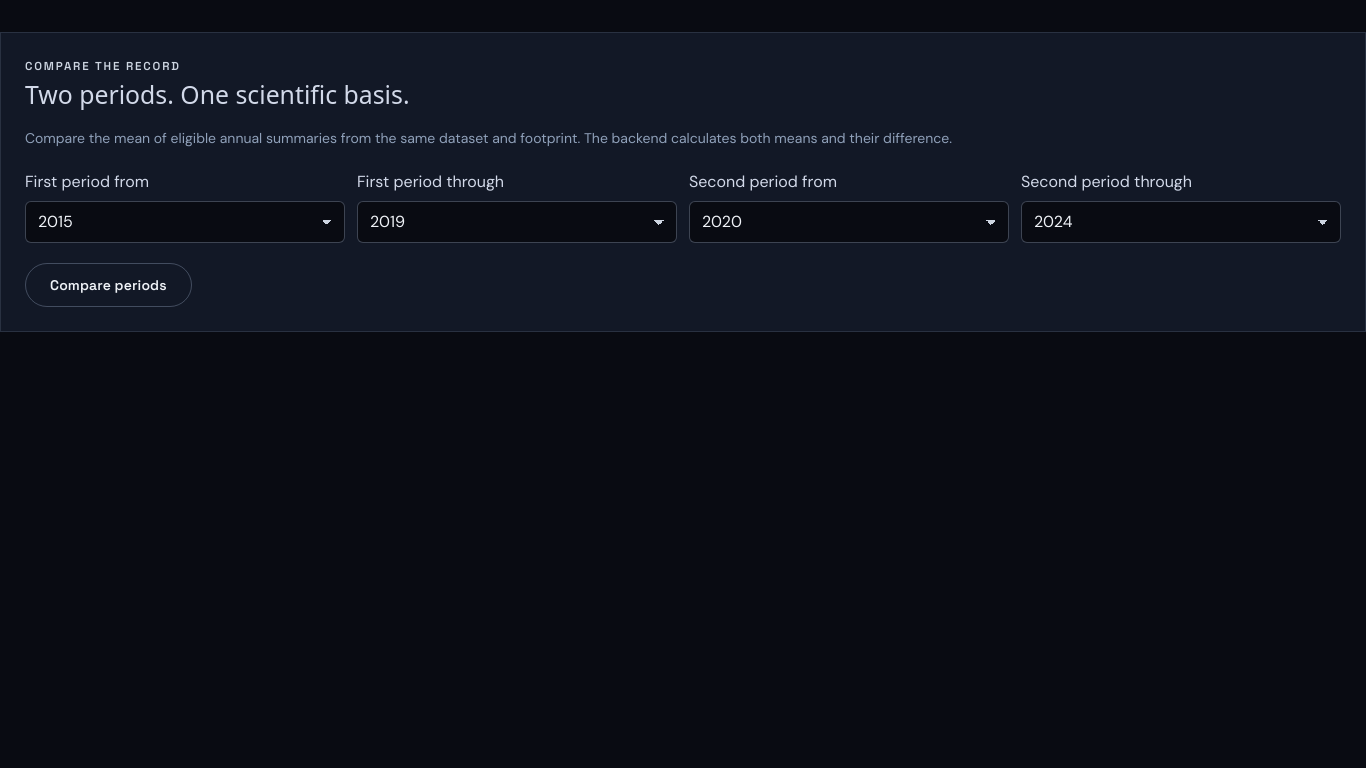
Test case: Backend-driven feature contracts › requests backend period means with submitted location, dates and evidence identity
Click the button "Compare periods". click: point(108, 285)
box: [25,263,192,307]
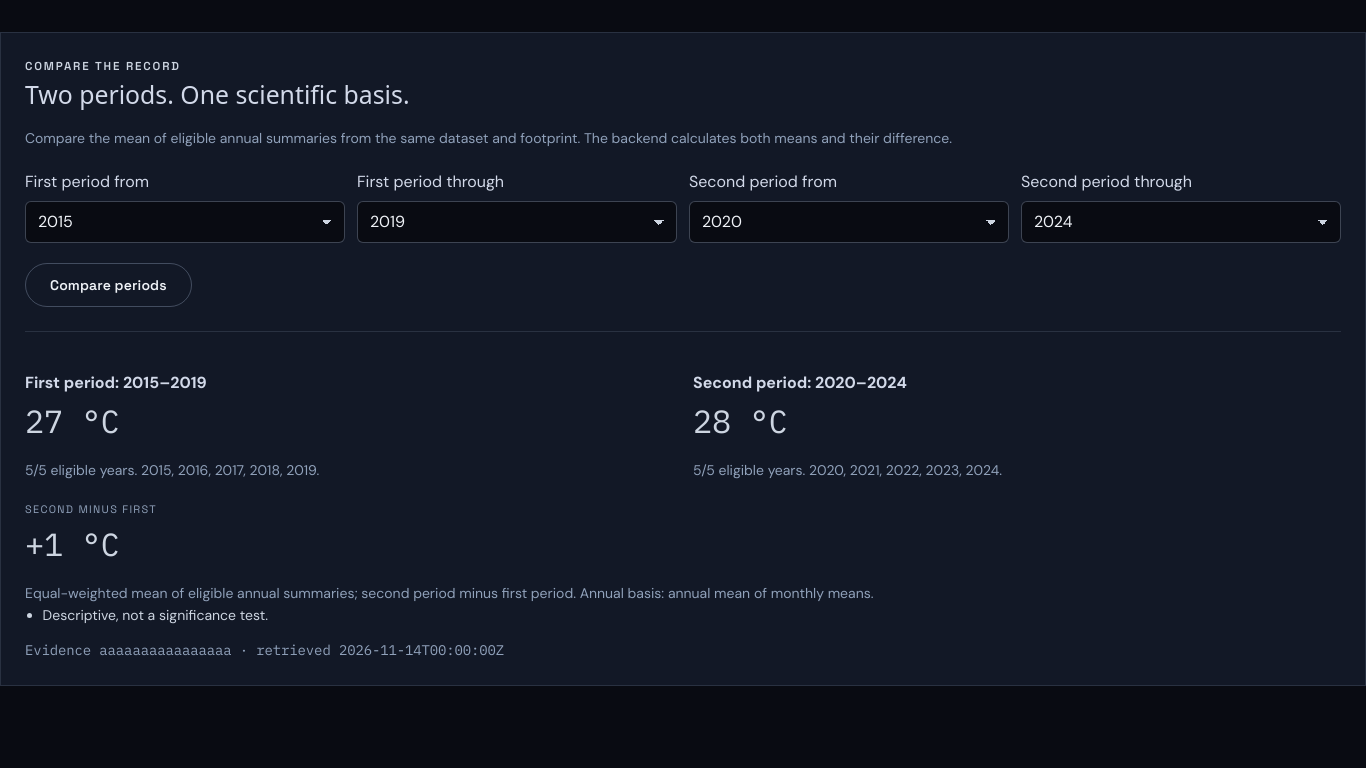
Expected: the text "+1 °C" is shown, [25,523,119,565]
Select "2020" in the dropdown labelled "First period through". click: point(517, 222)
box: [357,201,677,243]
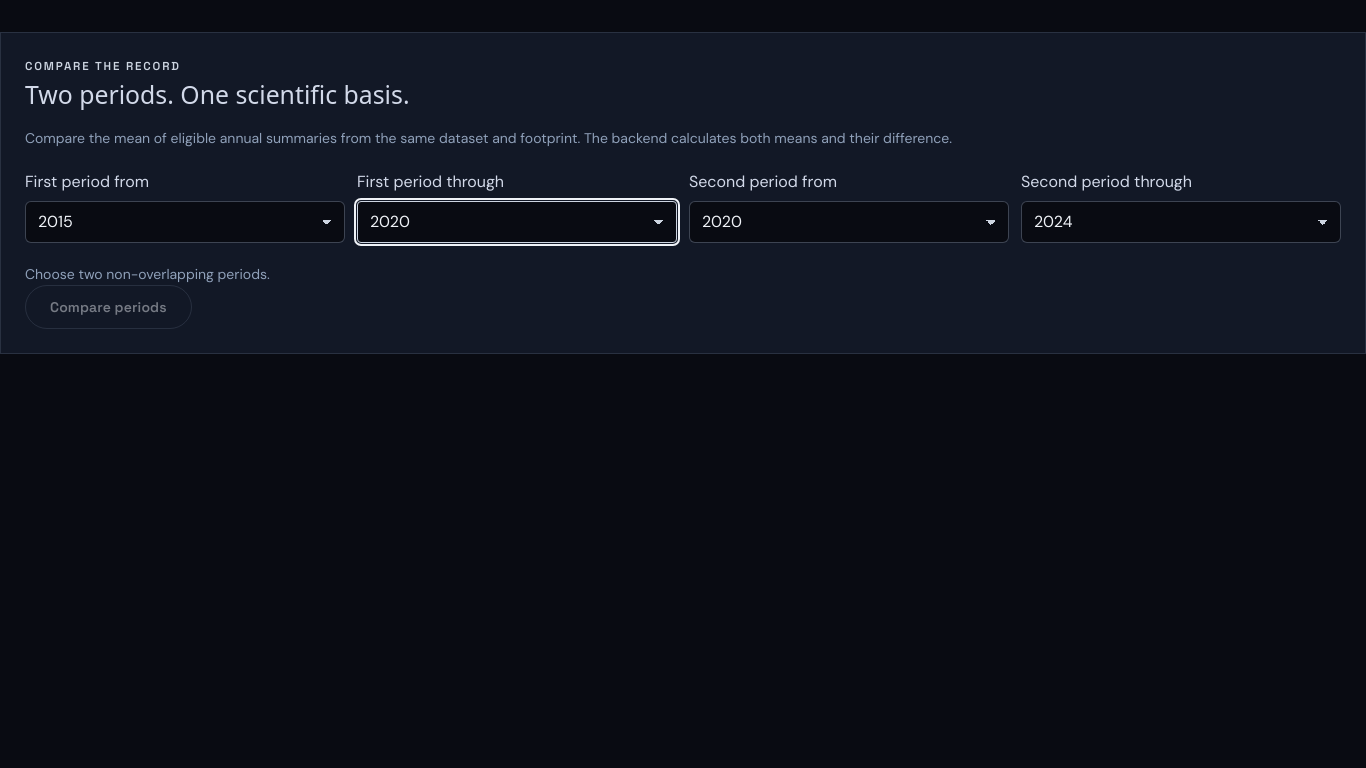
Expected: the button "Compare periods" is disabled, [25,286,192,330]
Expected: the text "+1 °C" is gone
